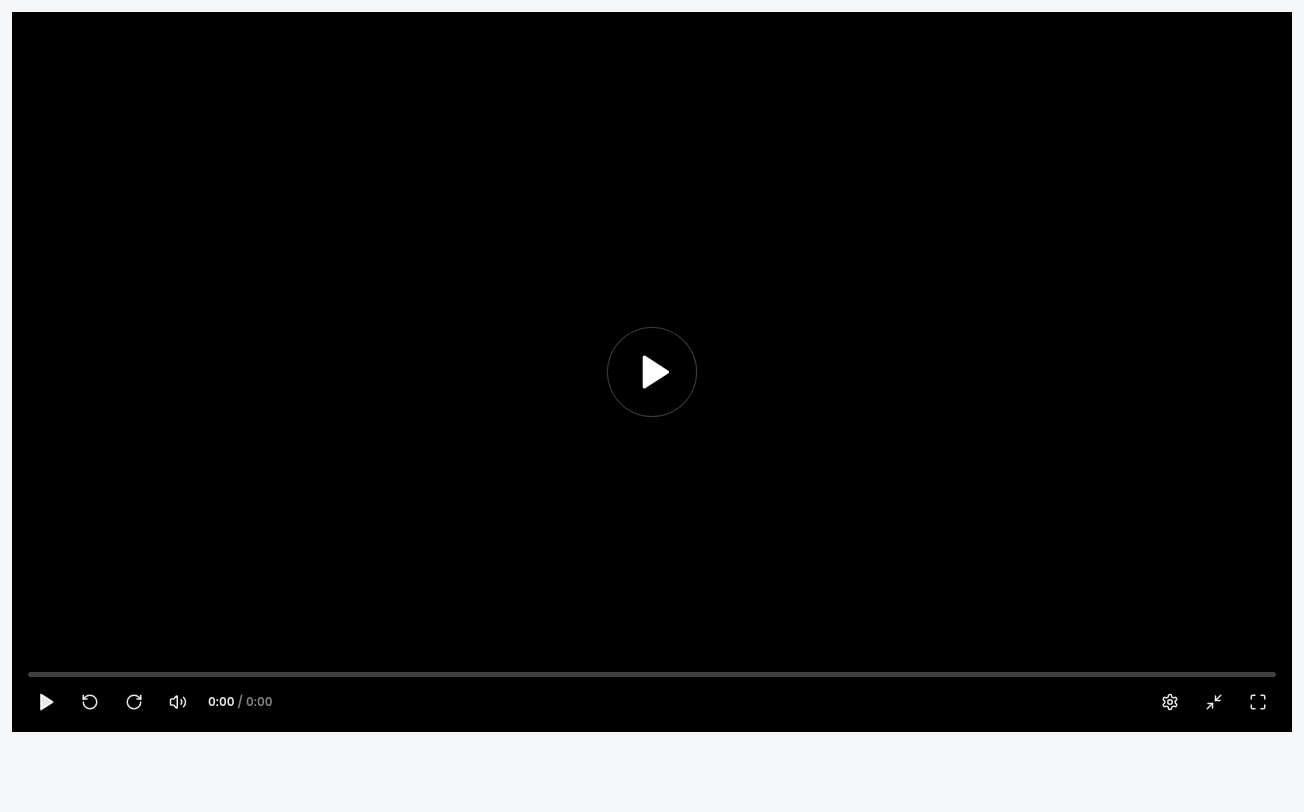
VideoPlayer › marks quality provider-managed for YouTube instead of offering a dead menu
What coordinates should you click on to do the following:
click the button named "Settings"
I would click on:
 (1170, 702)
Its box is [1152,684,1188,720].
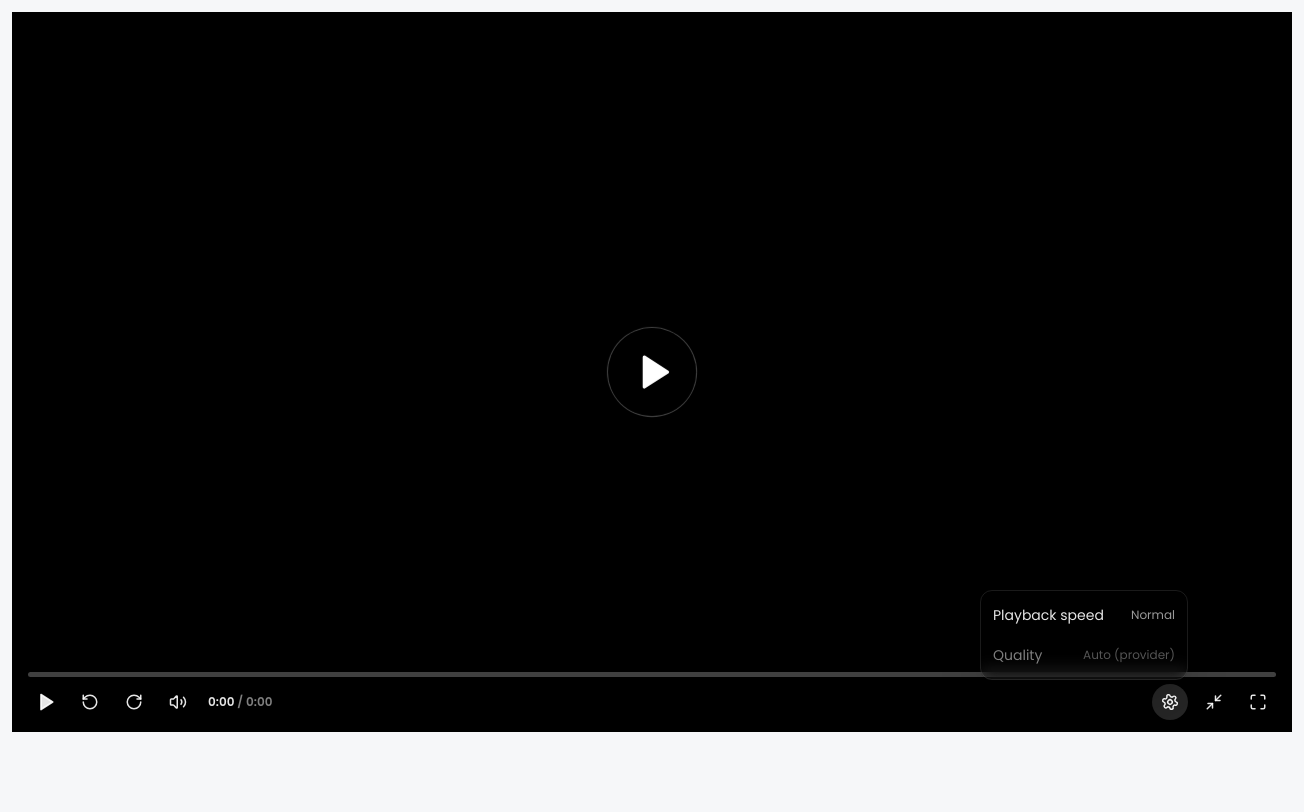
Now the text "Auto (provider)" is shown, box [1083,647,1175,663]
